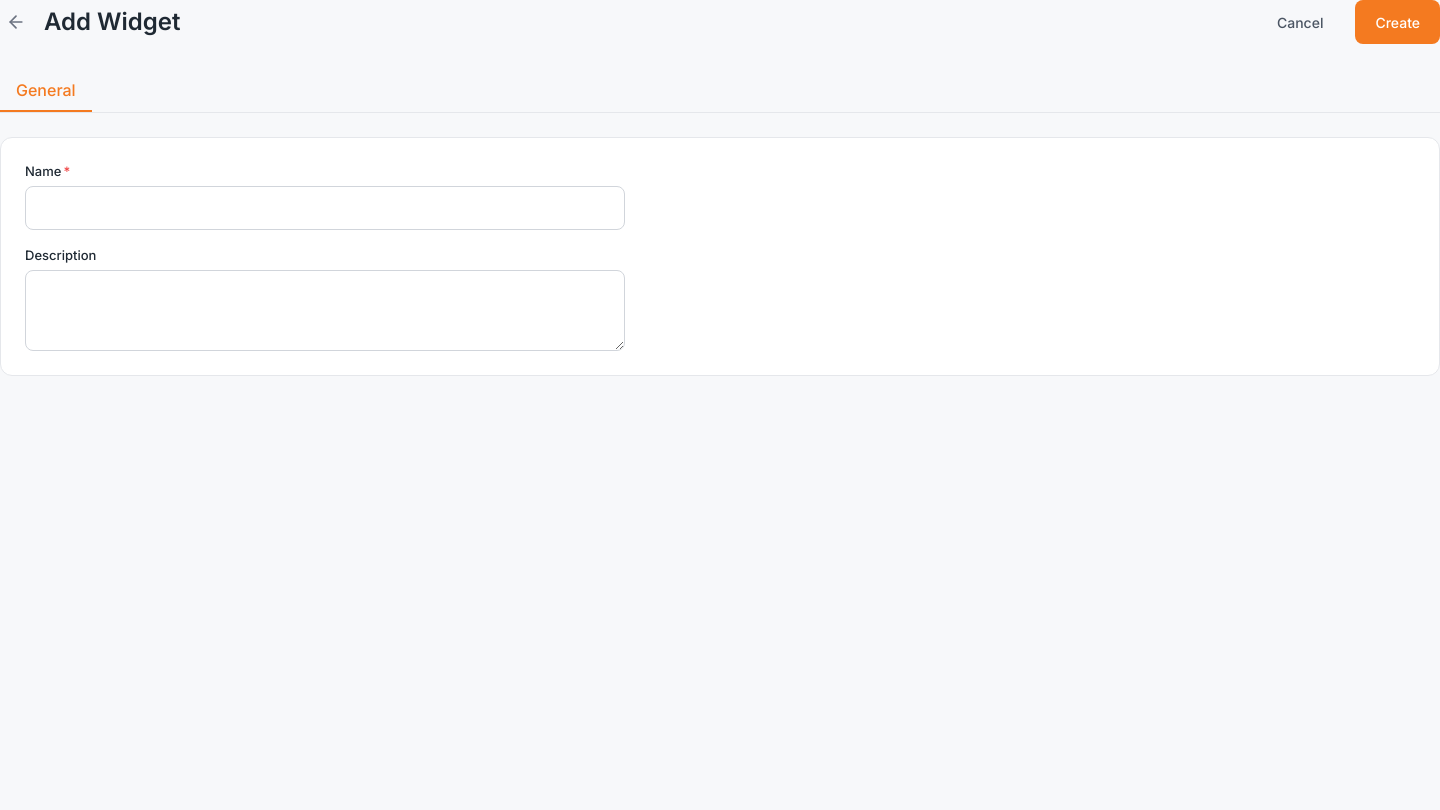
Test case: EntityEditPage › unsaved changes guard › shows unsaved changes dialog when cancel is clicked on dirty form
This screenshot has width=1440, height=810.
# Dirty the form
Type "dirty" into the field with test id "widget-field-name" at (325, 208), box [25, 186, 625, 230]
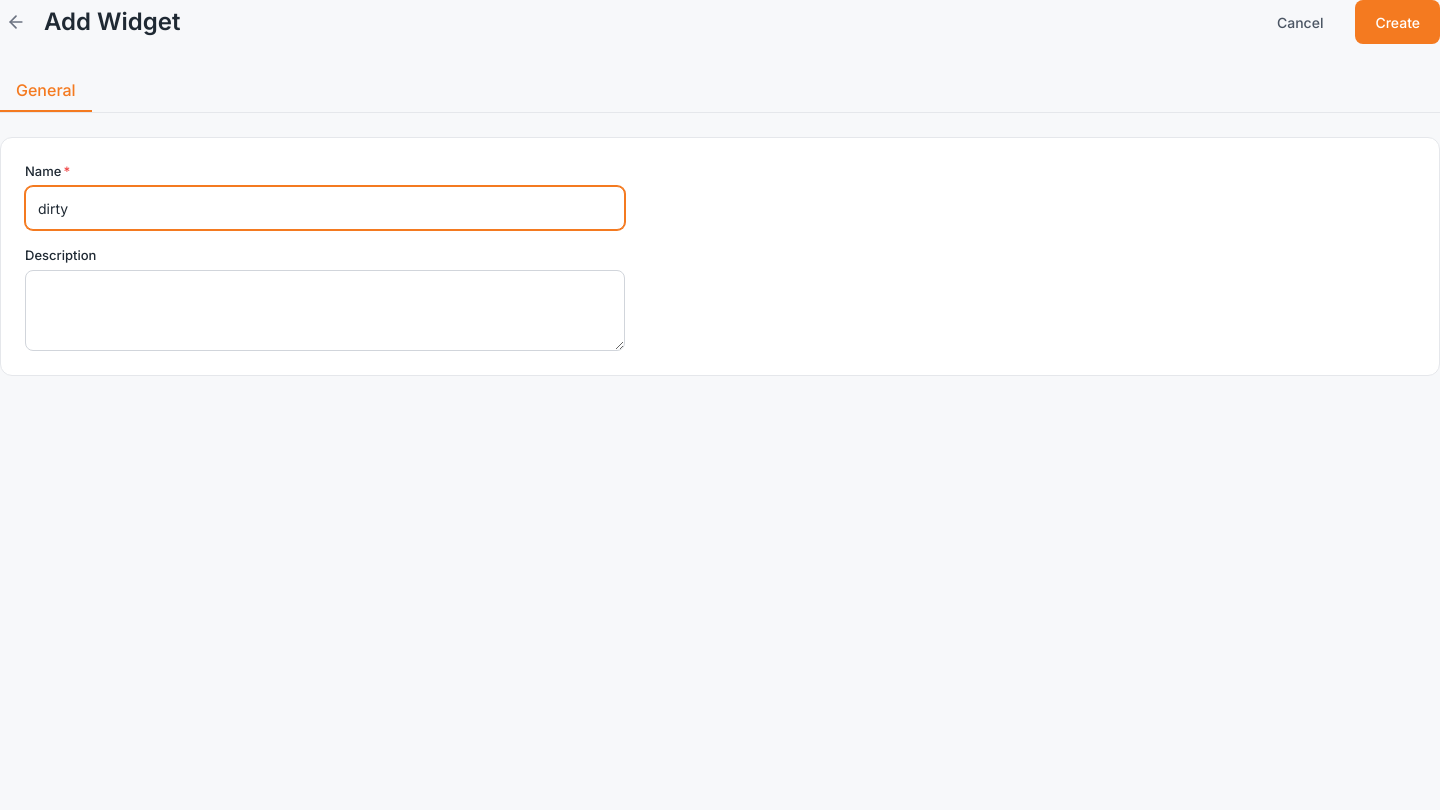
# Click cancel
Click the button with test id "widget-cancel" at (1300, 22), box [1257, 0, 1343, 44]
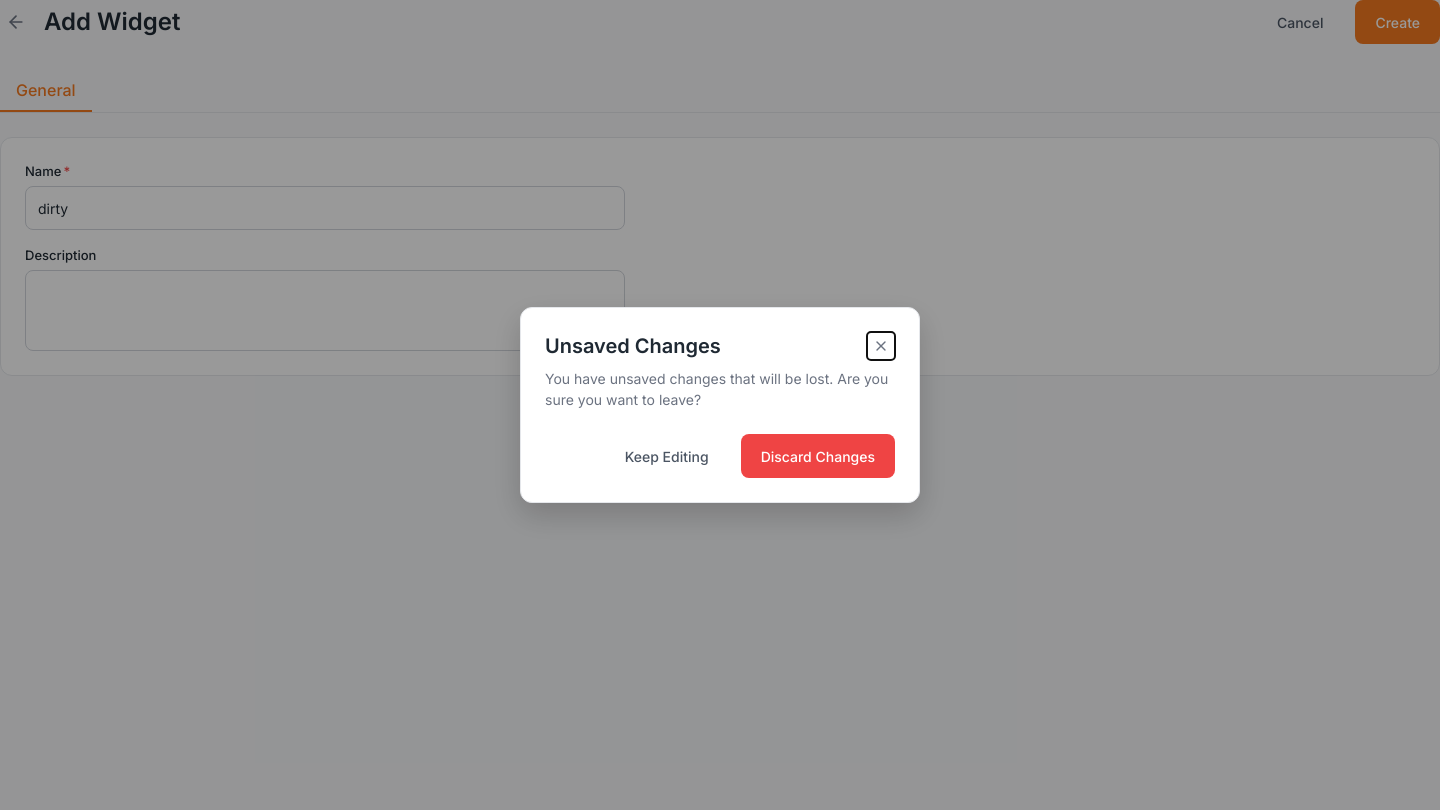
Expected: the heading "Unsaved Changes" is shown, [545, 332, 721, 360]
